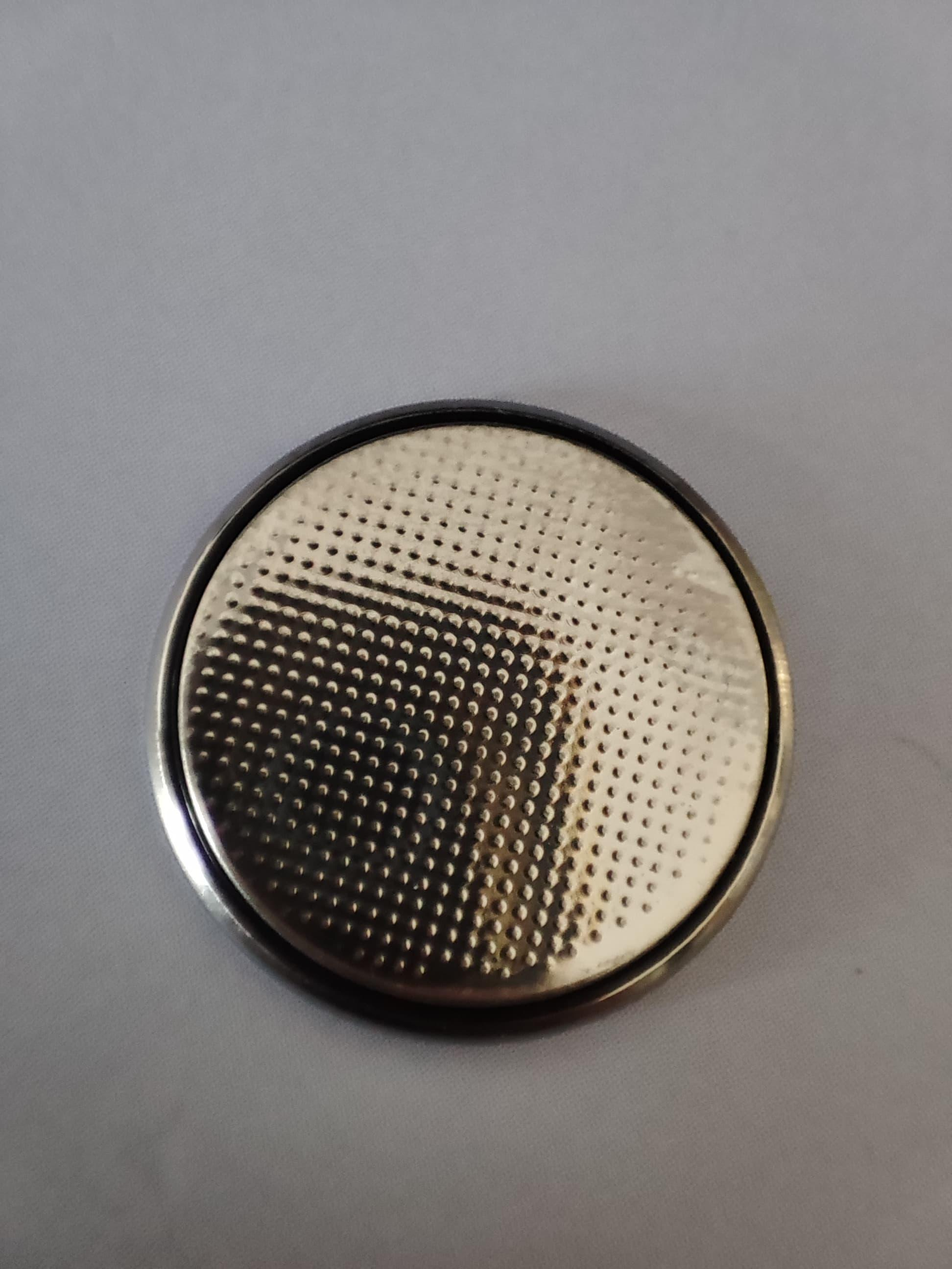COIN: (147, 396, 795, 1047)
